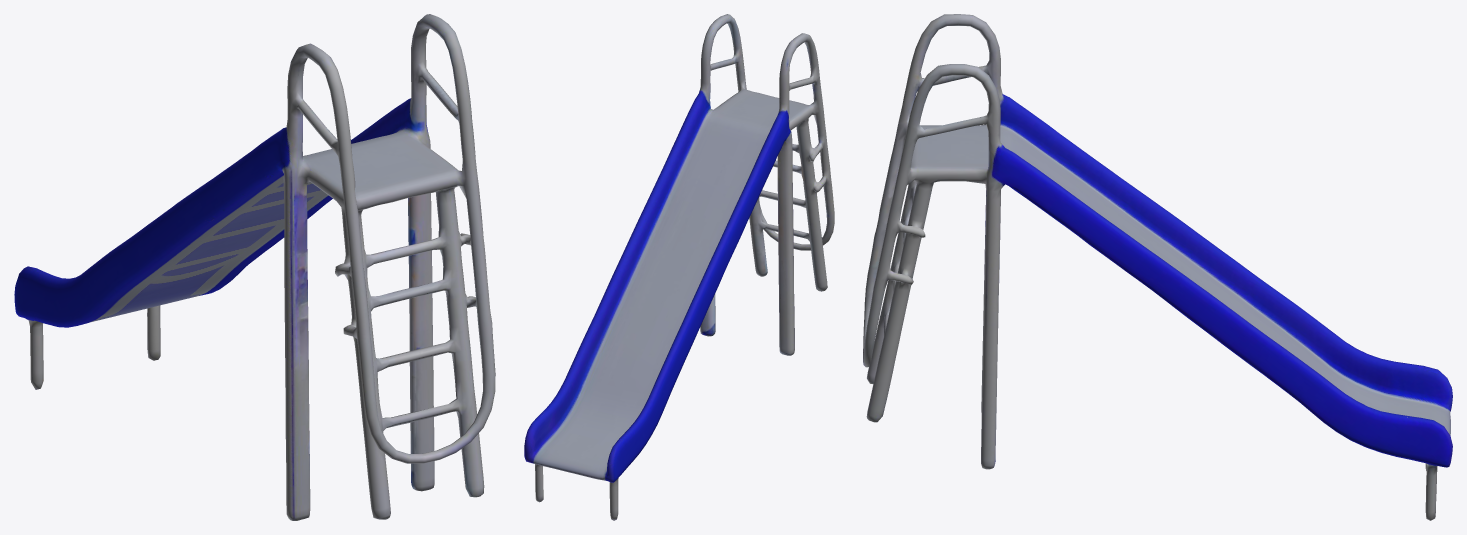
The model's file is tripo_convert_05494f0f-a8d2-44b9-80b0-32cb955bbabe.obj.
3 renders of one model, left to right at view 1: azimuth 30°, elevation 25°; view 2: azimuth 150°, elevation 25°; view 3: azimuth 270°, elevation 25°, orthographic. The views are drawn at different scales.
Parts seen in each view (by area): view 1: tripo_node_05494f0f-a8d2-44b9-80b0-32cb955bbabe; view 2: tripo_node_05494f0f-a8d2-44b9-80b0-32cb955bbabe; view 3: tripo_node_05494f0f-a8d2-44b9-80b0-32cb955bbabe.
Boxes of the visible parts, box(x1,y1,x2,y2) form: tripo_node_05494f0f-a8d2-44b9-80b0-32cb955bbabe: box(14, 14, 495, 520); tripo_node_05494f0f-a8d2-44b9-80b0-32cb955bbabe: box(524, 14, 834, 520); tripo_node_05494f0f-a8d2-44b9-80b0-32cb955bbabe: box(863, 14, 1452, 520).
Size of the model in its own units: 0.2258 by 0.8102 by 0.9481.
Materials: 1 (1 with a texture image).
